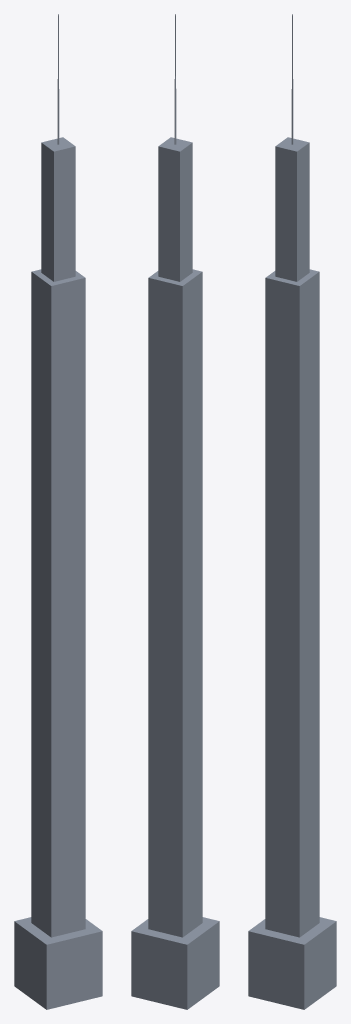
File: building_pencil.glb
The picture shows the model from 3 angles, left to right: view 1: azimuth 30°, elevation 25°; view 2: azimuth 150°, elevation 25°; view 3: azimuth 330°, elevation 25°; orthographic projection.
Parts seen in each view (by area): view 1: building_pencil; view 2: building_pencil; view 3: building_pencil.
Part boxes in pixels (box(x1,y1,x2,y2)): building_pencil: box(14, 14, 102, 1009); building_pencil: box(131, 14, 219, 1009); building_pencil: box(248, 14, 336, 1009).
Bounding box in the file's own units: 18 × 300 × 18.
